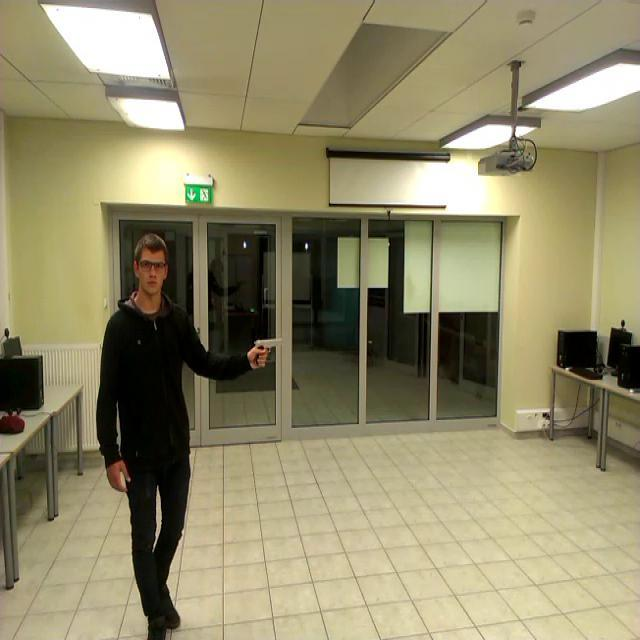Gun: (255, 337, 282, 365)
